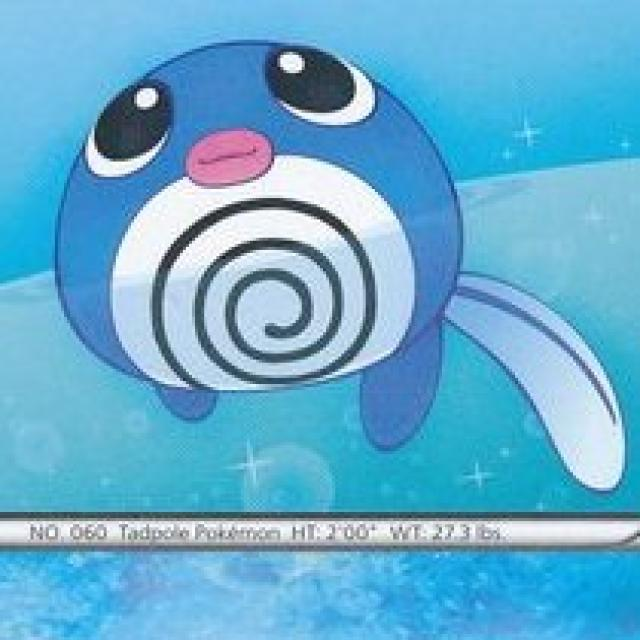Poliwag: (54, 37, 540, 424)
